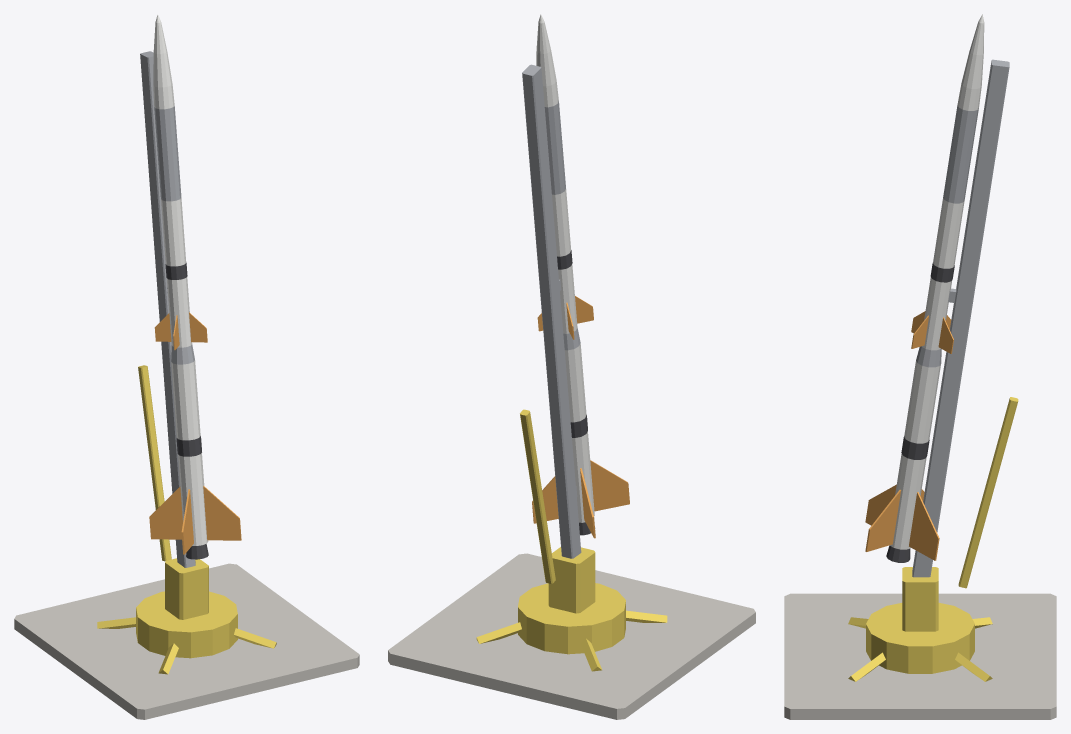
The model's file is nike-orion-lancador.fbx.
3 views of the same model, side by side, from view 1: azimuth 30°, elevation 25°; view 2: azimuth 150°, elevation 25°; view 3: azimuth 270°, elevation 25° (orthographic). The views are drawn at different scales.
Parts seen in each view (by area): view 1: NikeOrion; view 2: NikeOrion; view 3: NikeOrion.
Boxes of the visible parts, x1,y1,x2,y2 form: NikeOrion: (14,14,359,719); NikeOrion: (388,14,755,719); NikeOrion: (784,14,1056,719).
Bounding box in the file's own units: 4.5 × 11.81 × 4.5.
1 material, 1 textured.
